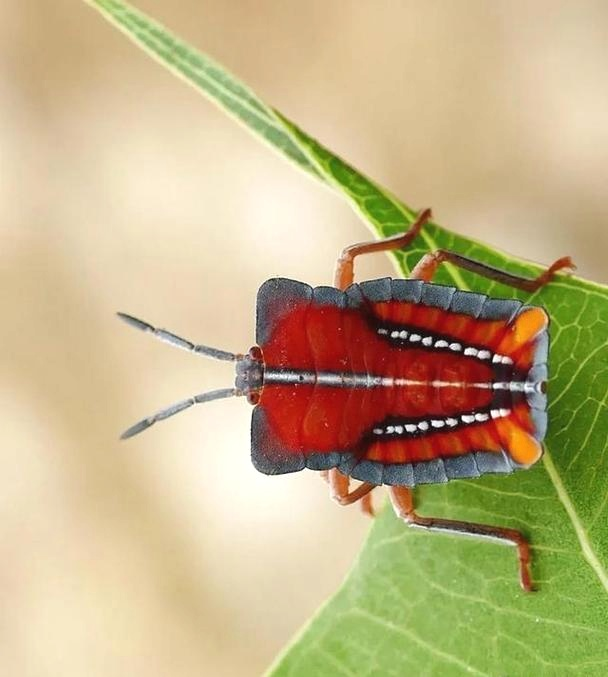Stink_Bug: (178, 240, 554, 507)
